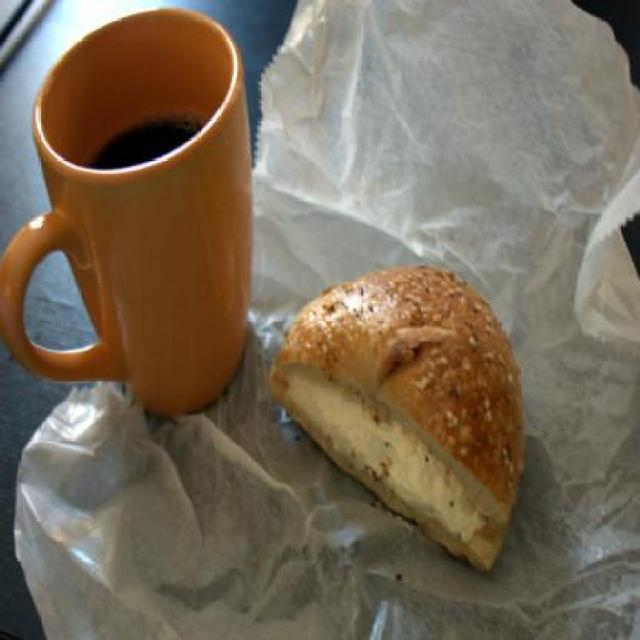Bagel: (268, 267, 530, 575)
